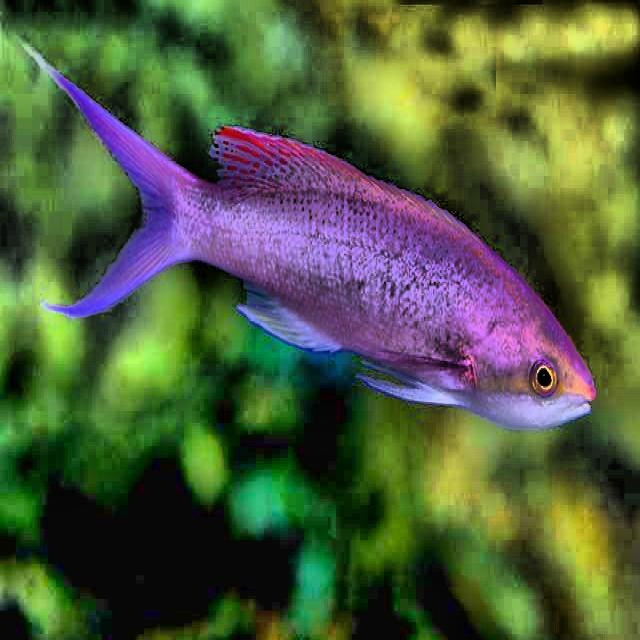fish: (14, 31, 597, 433)
